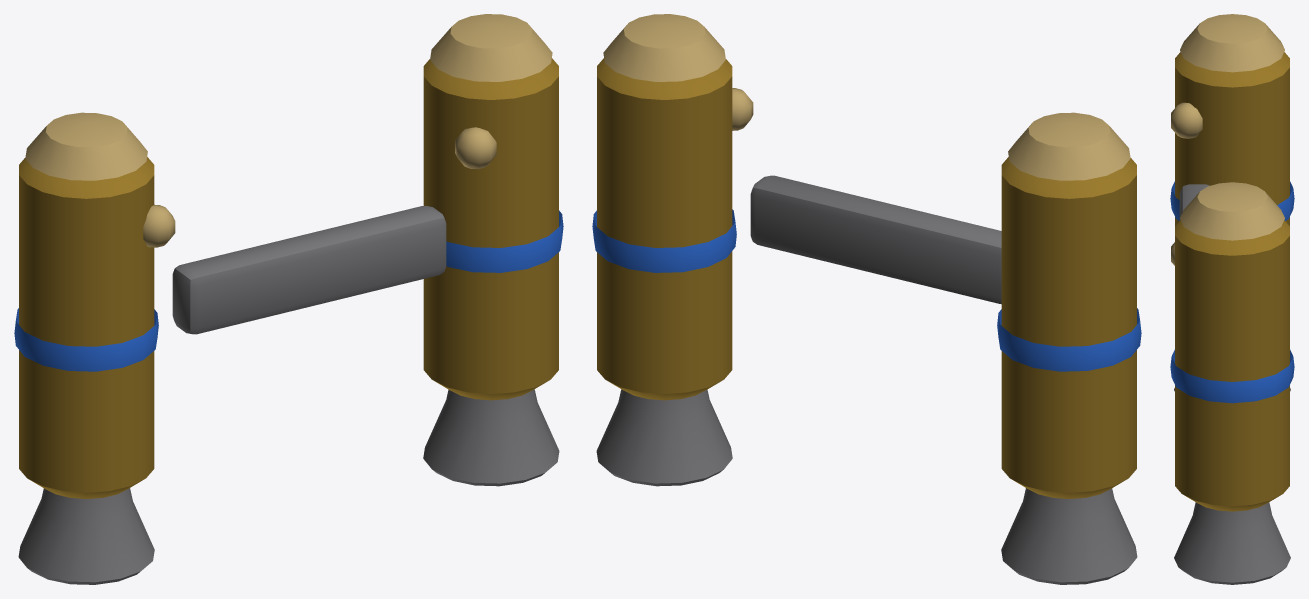
The model's file is Kit_Active_Jetpack.glb.
3 views of the same model, side by side, from view 1: azimuth 30°, elevation 25°; view 2: azimuth 150°, elevation 25°; view 3: azimuth 270°, elevation 25° (orthographic). The views are drawn at different scales.
Parts seen in each view (by area): view 1: Kit_Active_Jetpack; view 2: Kit_Active_Jetpack; view 3: Kit_Active_Jetpack.
Part boxes in pixels (x1,y1,x2,y2): Kit_Active_Jetpack: (14, 14, 563, 584); Kit_Active_Jetpack: (592, 14, 1141, 584); Kit_Active_Jetpack: (1170, 14, 1294, 584).
Bounding box in the file's own units: 0.446 × 0.35 × 0.106.
